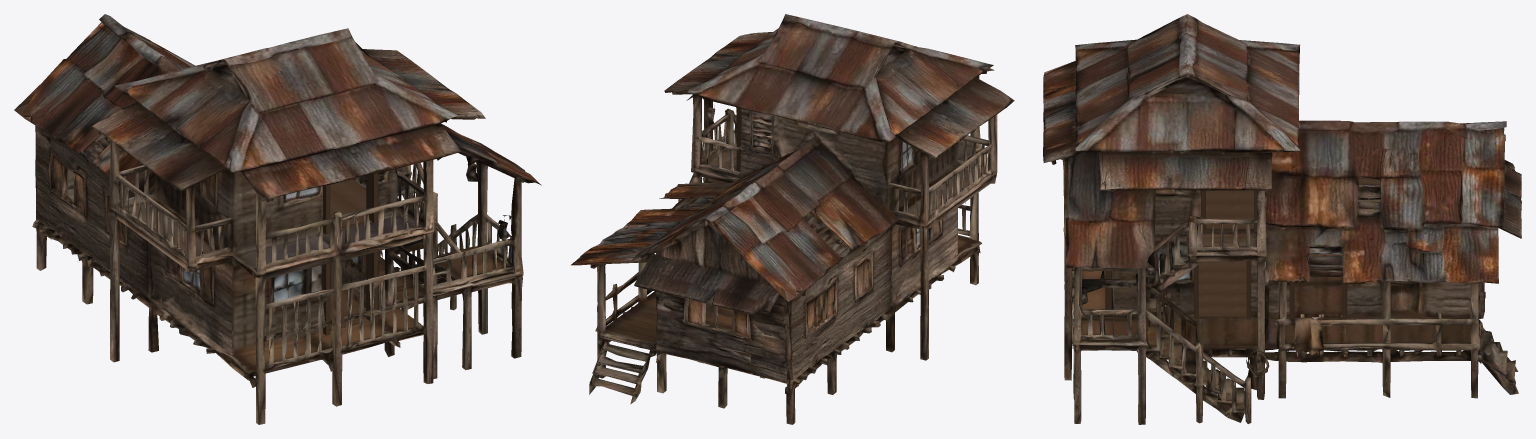
File: rusty-house.enter-v1.lod0.glb
3 renders of one model, left to right at view 1: azimuth 30°, elevation 25°; view 2: azimuth 150°, elevation 25°; view 3: azimuth 270°, elevation 25°, orthographic. The views are drawn at different scales.
Parts seen in each view (by area): view 1: Object_4; view 2: Object_4; view 3: Object_4.
Boxes of the visible parts, x1,y1,x2,y2 form: Object_4: (14, 14, 541, 424); Object_4: (571, 14, 1014, 424); Object_4: (1043, 14, 1521, 424).
Bounding box in the file's own units: 7.95 × 6.92 × 10.
Materials: 1 (1 with a texture image).
